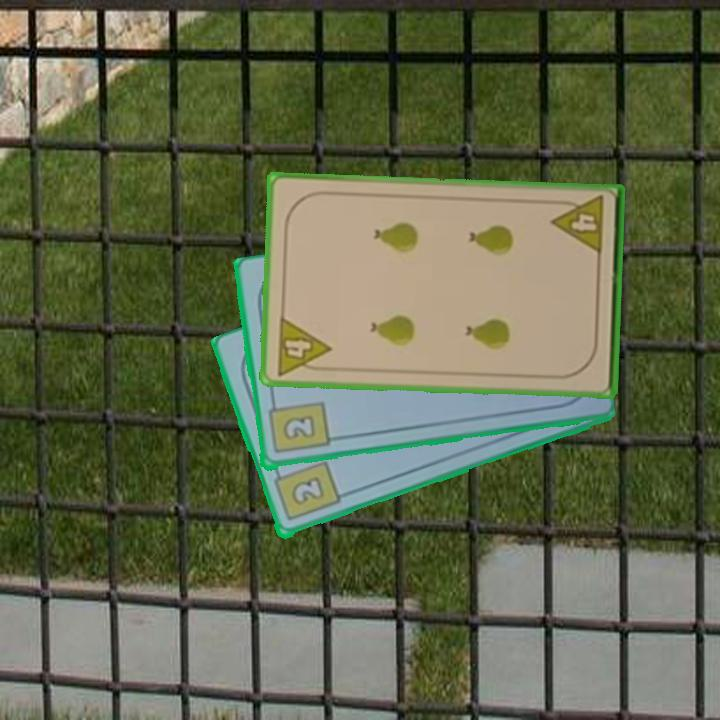2b: (270, 458, 343, 525), (264, 395, 332, 457)
4p: (272, 313, 333, 378), (549, 193, 607, 258)
